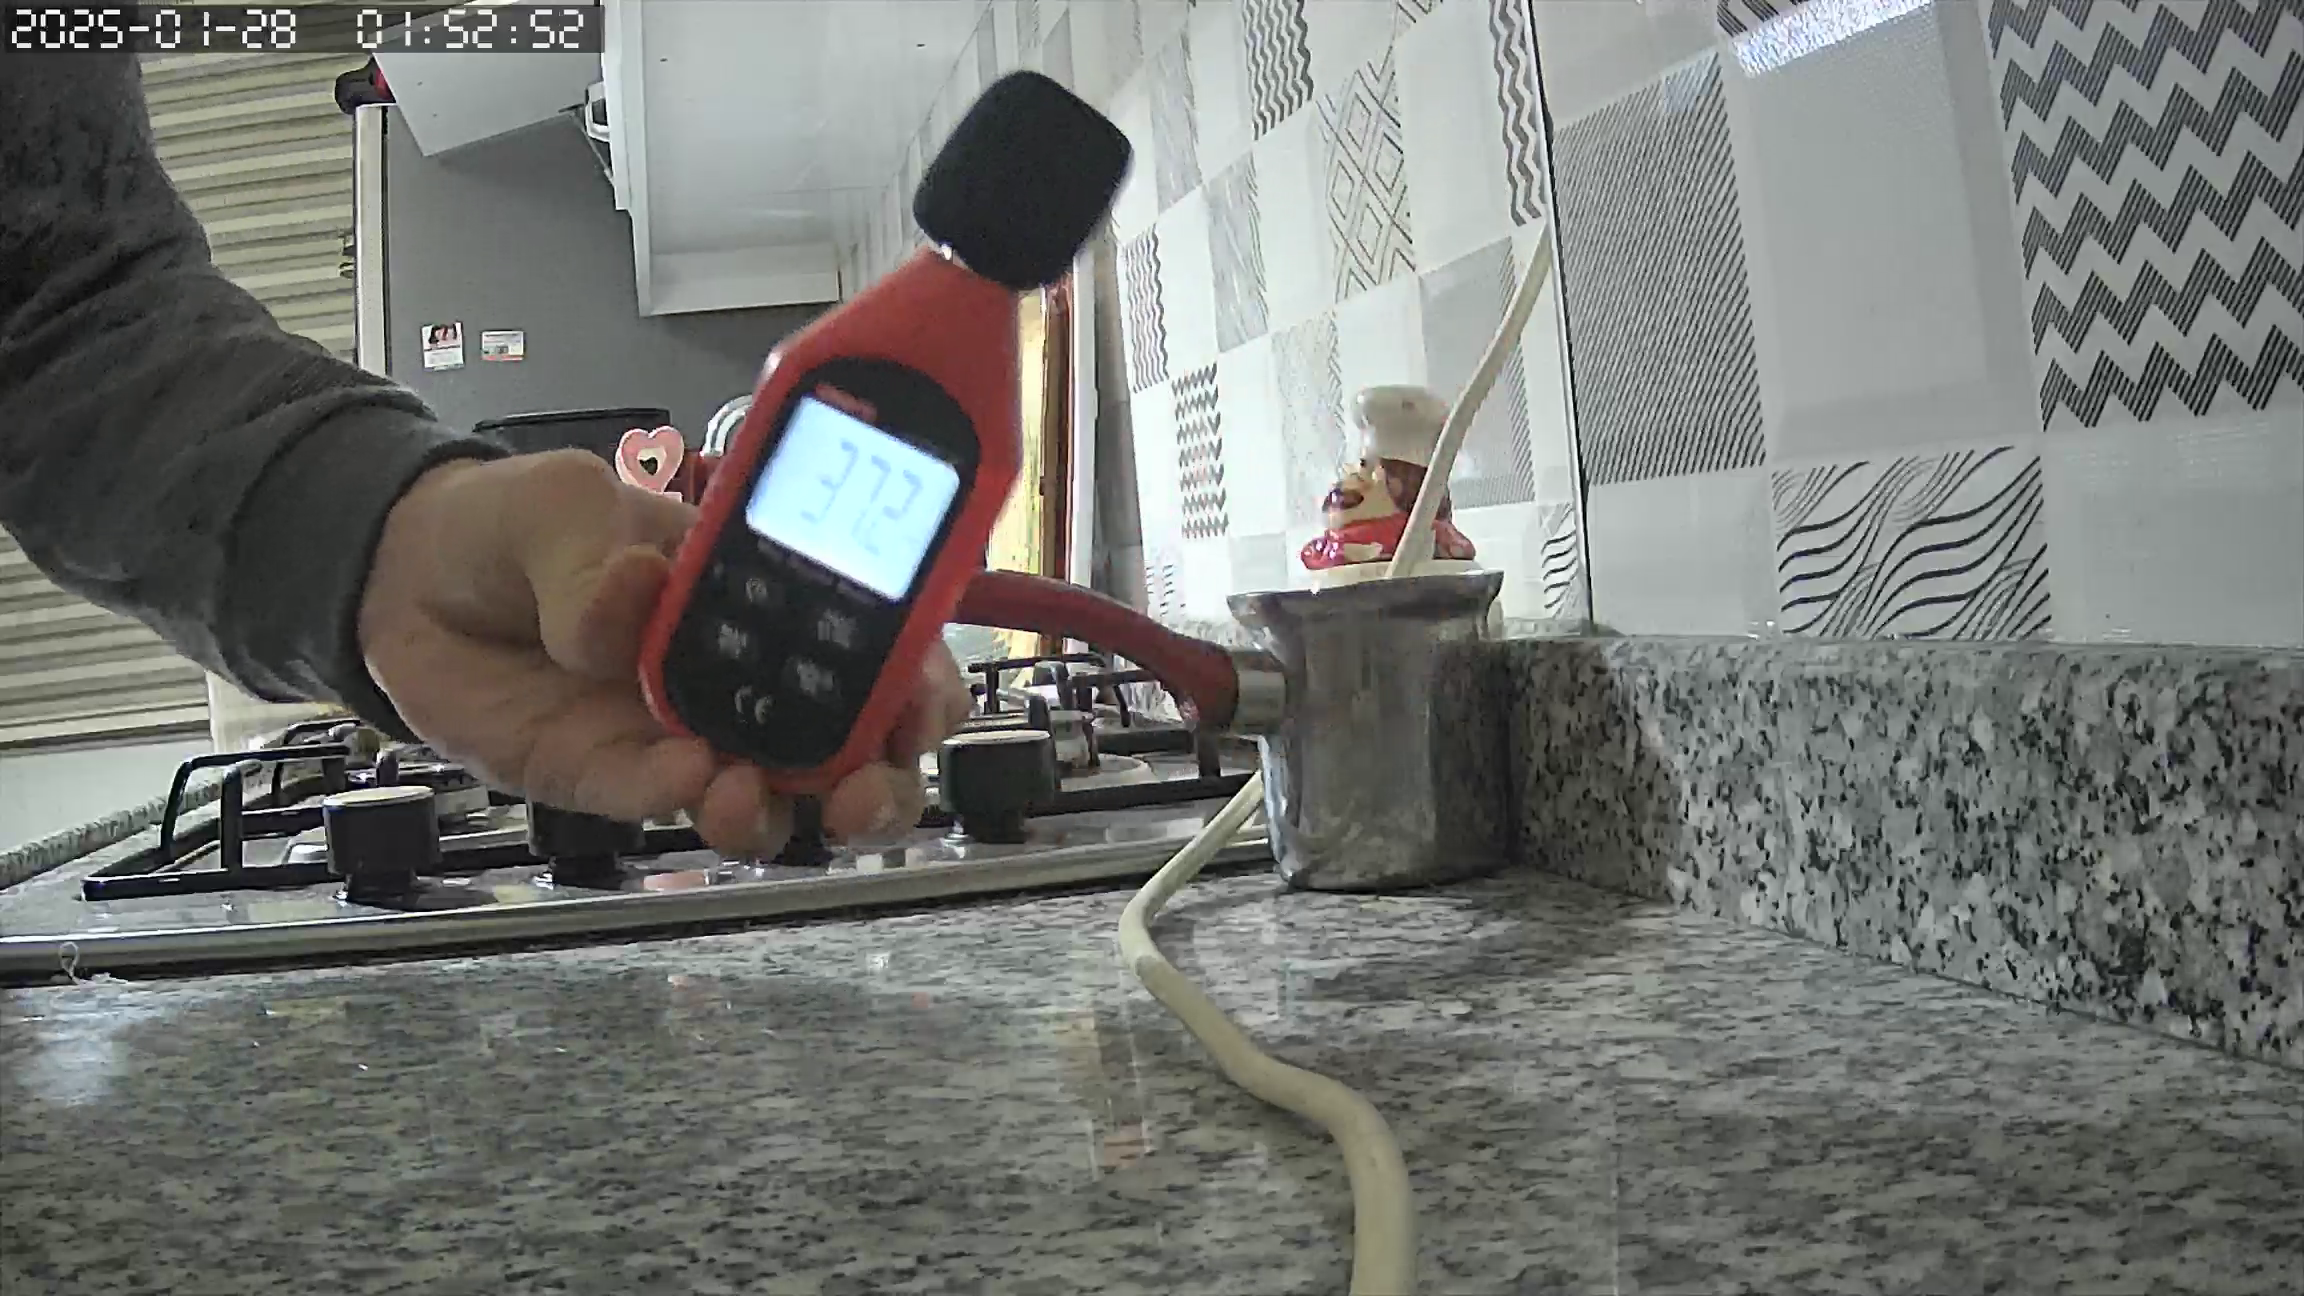screen: (744, 397, 957, 601)
